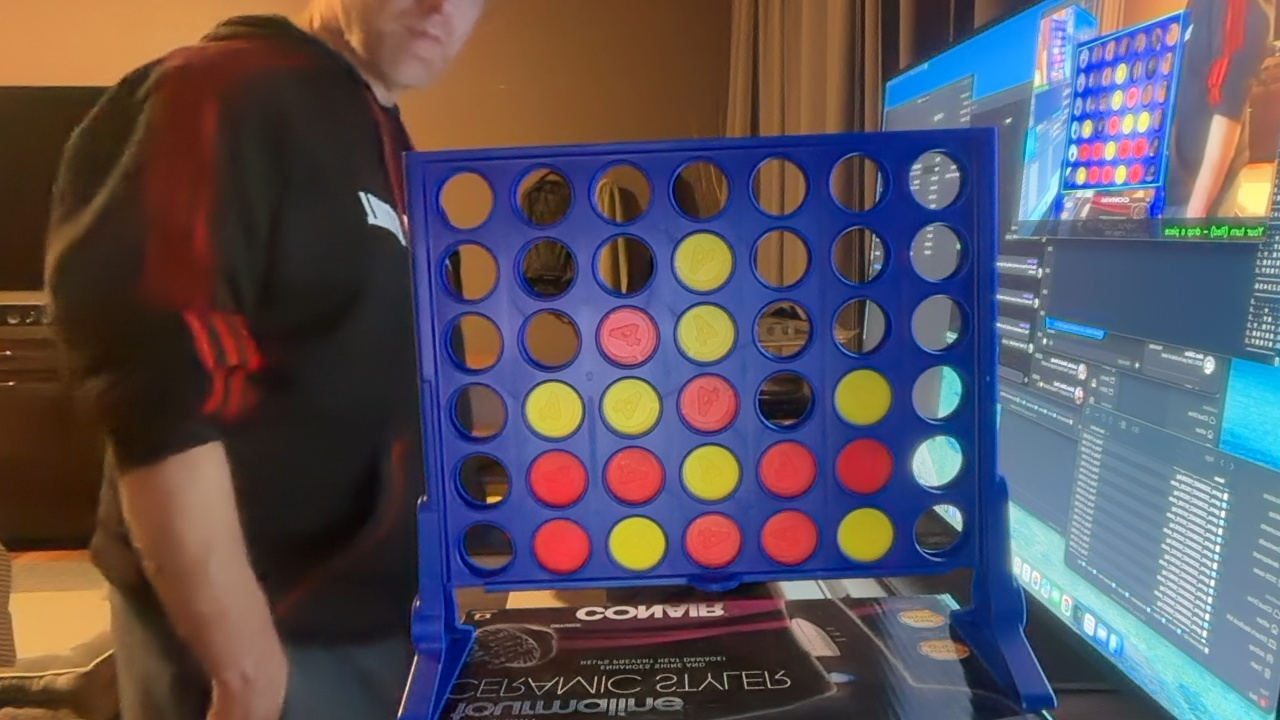red piece: (597, 307, 658, 366), (678, 374, 739, 433), (604, 447, 664, 504), (528, 450, 587, 507), (759, 441, 816, 498), (835, 438, 893, 494), (533, 518, 590, 574), (761, 510, 818, 565), (684, 513, 741, 568)
yellow piece: (673, 231, 733, 291), (524, 381, 584, 439), (601, 378, 661, 436), (676, 304, 736, 362), (681, 445, 741, 501), (834, 369, 892, 426), (608, 516, 666, 571), (837, 508, 894, 562)
